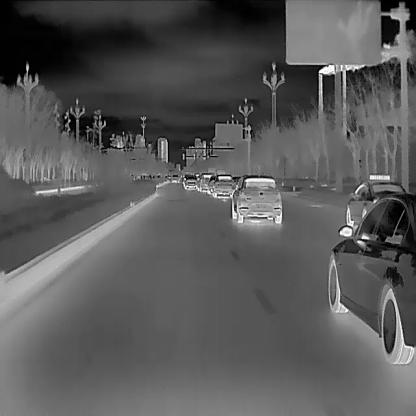car: (326, 192, 416, 366), (345, 172, 408, 226), (230, 173, 283, 222), (212, 173, 235, 197), (197, 172, 217, 191), (205, 174, 220, 193), (181, 173, 197, 189), (170, 173, 178, 183)
